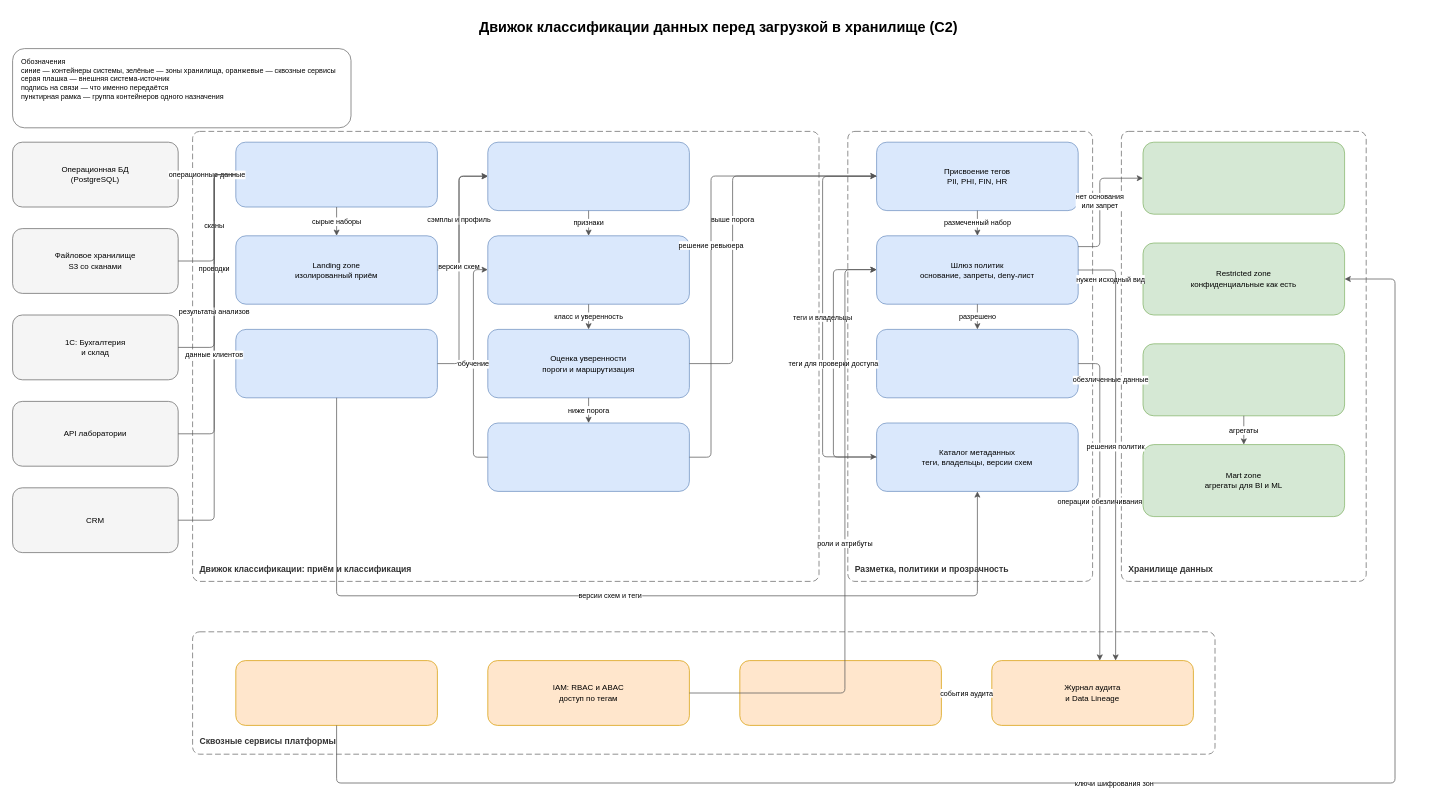
Some shapes in this 1436 by 801 pixel diagram are drawn without their labels. Here are the shapes that lost their labels. From the top down, the box of each, then its label:
(235, 141, 437, 207): Коннекторы источников batch и CDC
(487, 141, 689, 211): Профилировщик сэмплирование и профиль
(1142, 141, 1345, 214): Quarantine zone неклассифицированные
(487, 235, 689, 304): Классификатор правила, словари, ML-модель
(235, 329, 437, 398): Реестр схем и детектор дрейфа
(876, 329, 1078, 398): Обезличивание псевдонимизация, маскирование
(1142, 343, 1345, 416): Curated zone обезличенные наборы
(487, 422, 689, 491): Очередь ручного разбора низкая уверенность
(235, 660, 437, 725): KMS: ключи шифрования
(739, 660, 941, 725): Мониторинг алерты и аномалии
